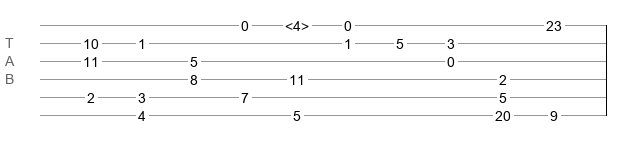0: (241, 18, 249, 28), (344, 18, 352, 28), (447, 54, 455, 64)
1: (138, 36, 146, 46), (344, 36, 352, 46)
10: (83, 36, 99, 46)
11: (83, 54, 99, 64), (289, 72, 305, 82)
2: (87, 90, 95, 100), (499, 72, 507, 82)
20: (495, 108, 511, 118)
23: (546, 18, 562, 28)
3: (138, 90, 146, 100), (447, 36, 455, 46)
4: (138, 108, 146, 118)
5: (190, 54, 198, 64), (293, 108, 301, 118), (396, 36, 404, 46), (499, 90, 507, 100)
7: (241, 90, 249, 100)
8: (190, 72, 198, 82)
9: (550, 108, 558, 118)
harmonic: (285, 18, 309, 28)
